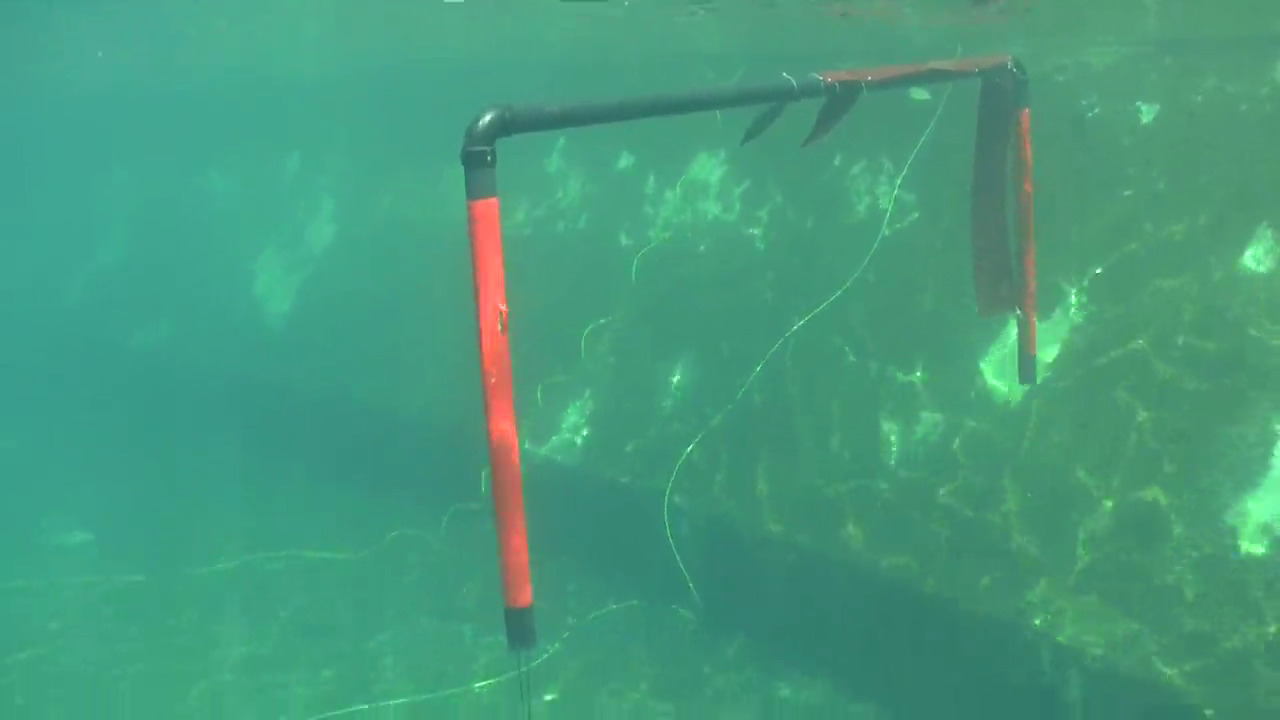gate: (454, 47, 1050, 655)
